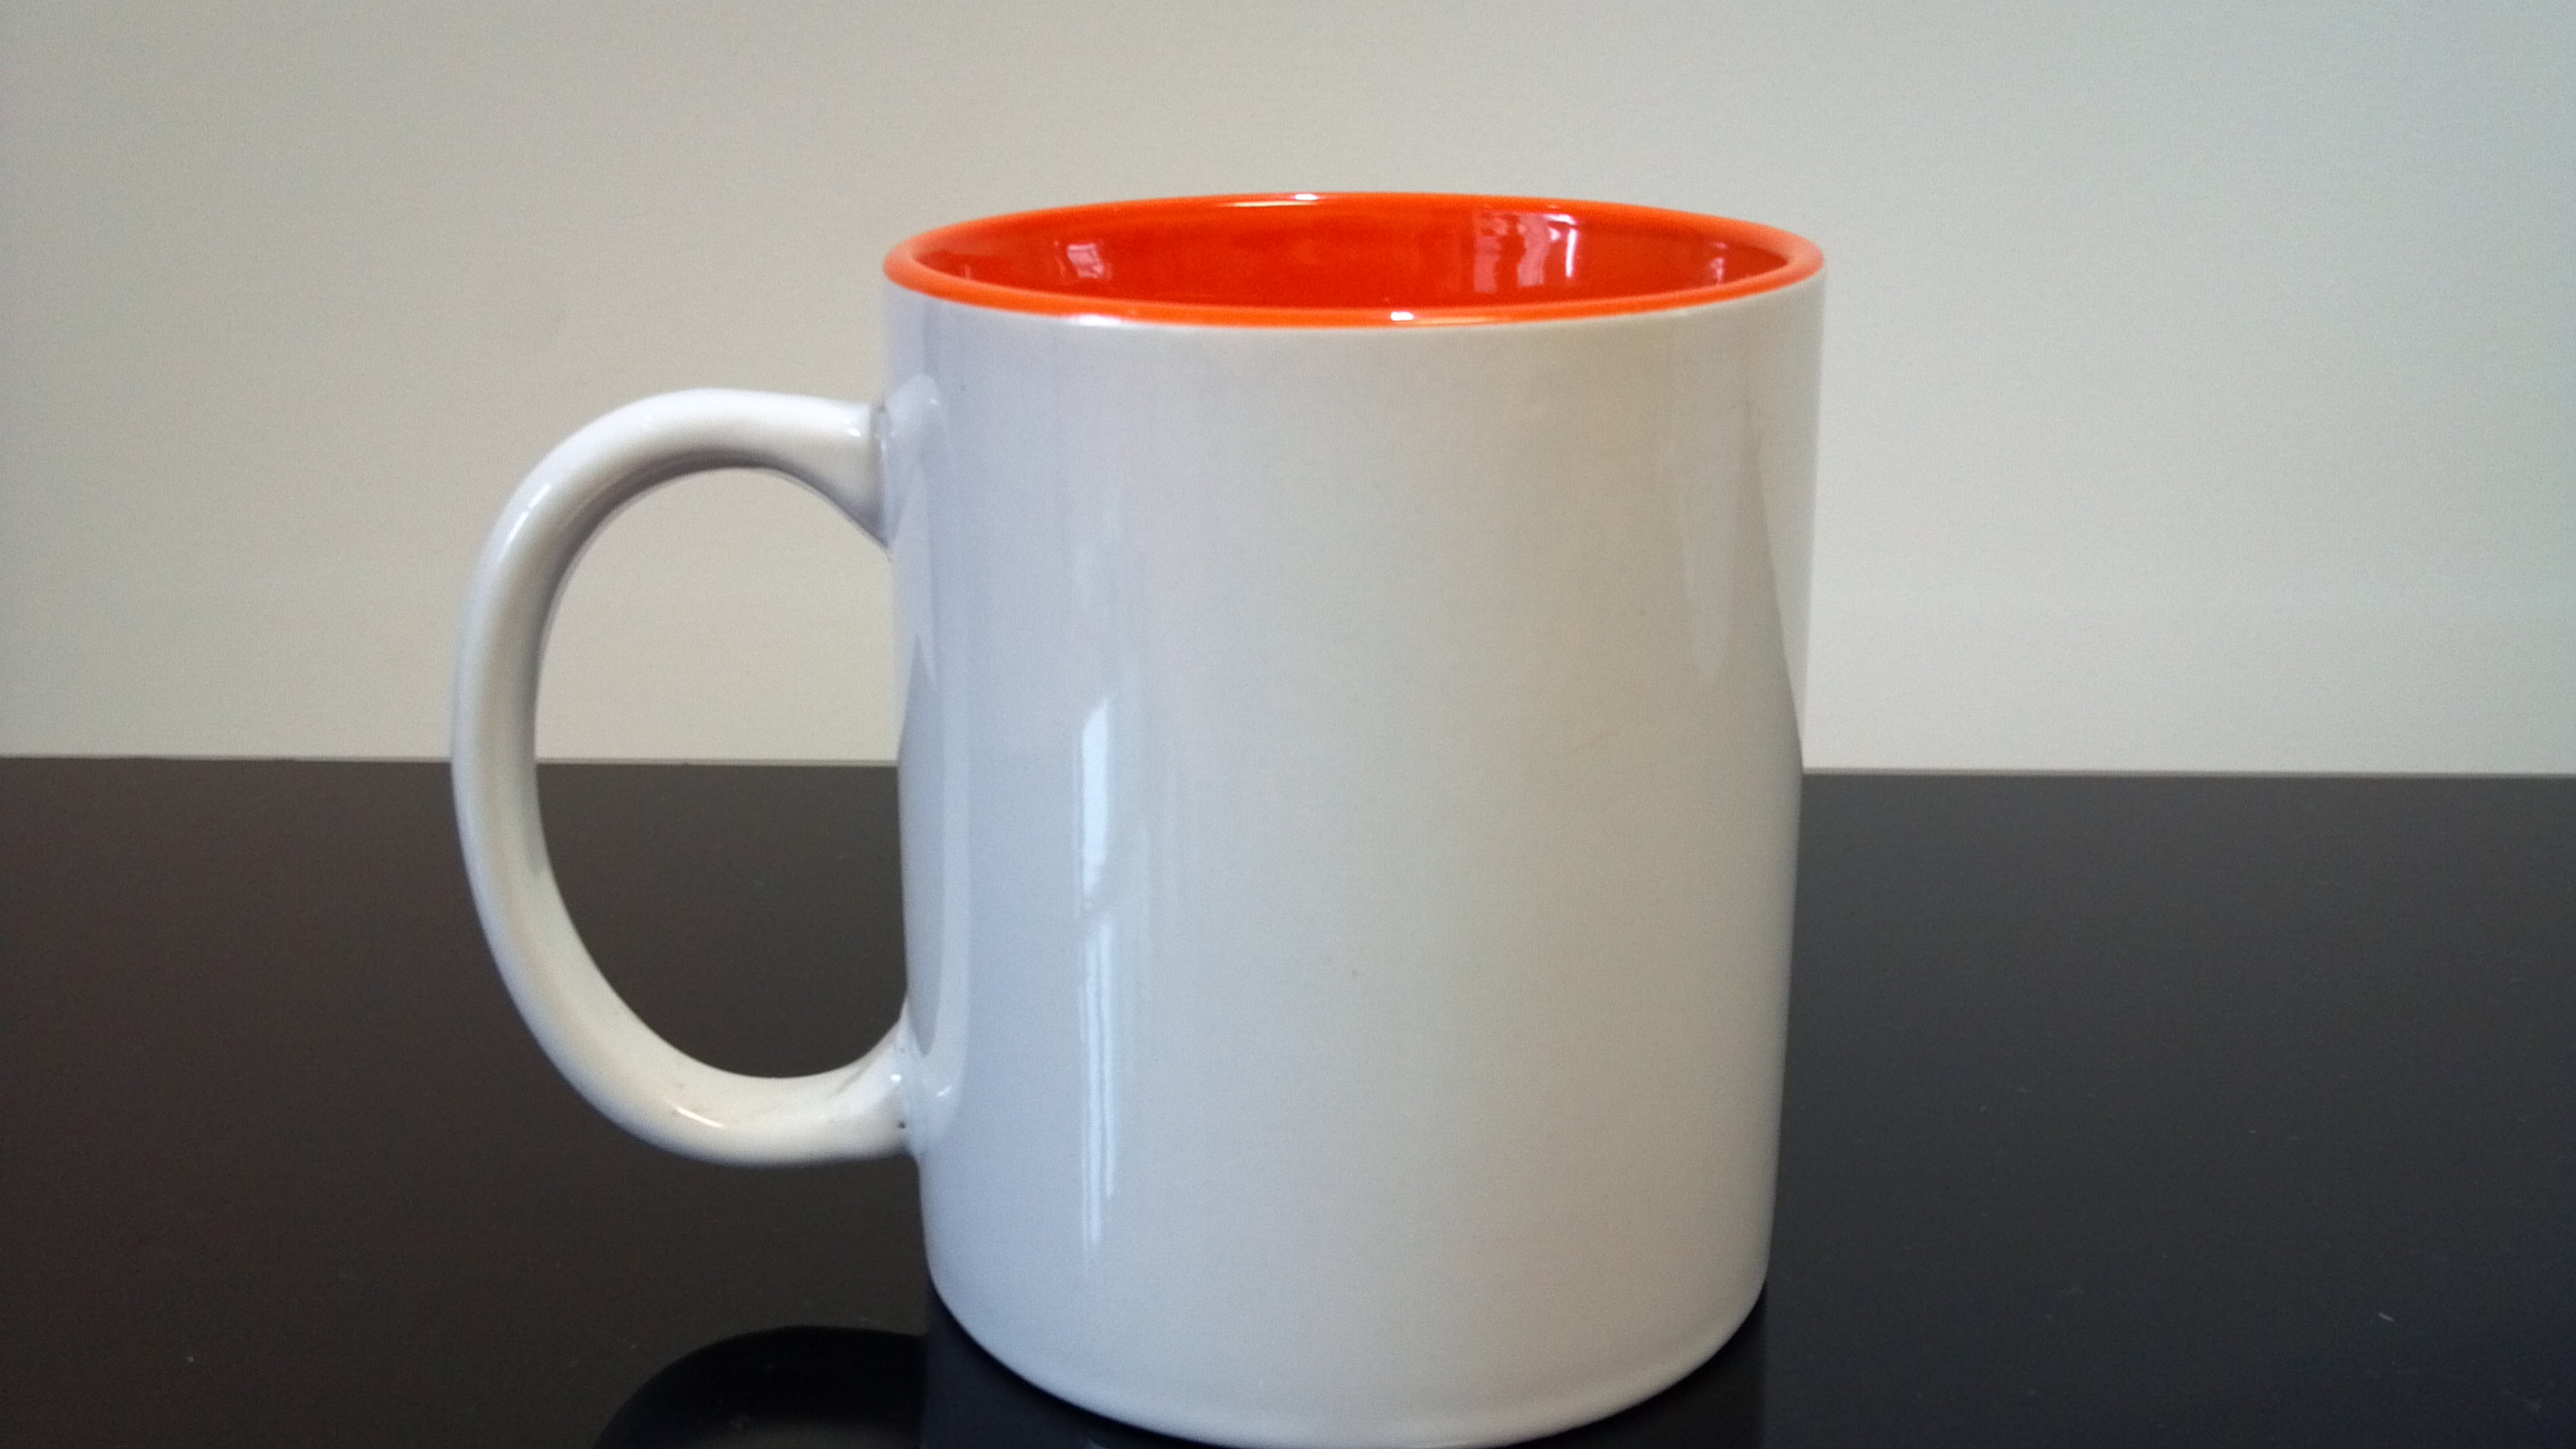cup: (444, 180, 1828, 1449)
